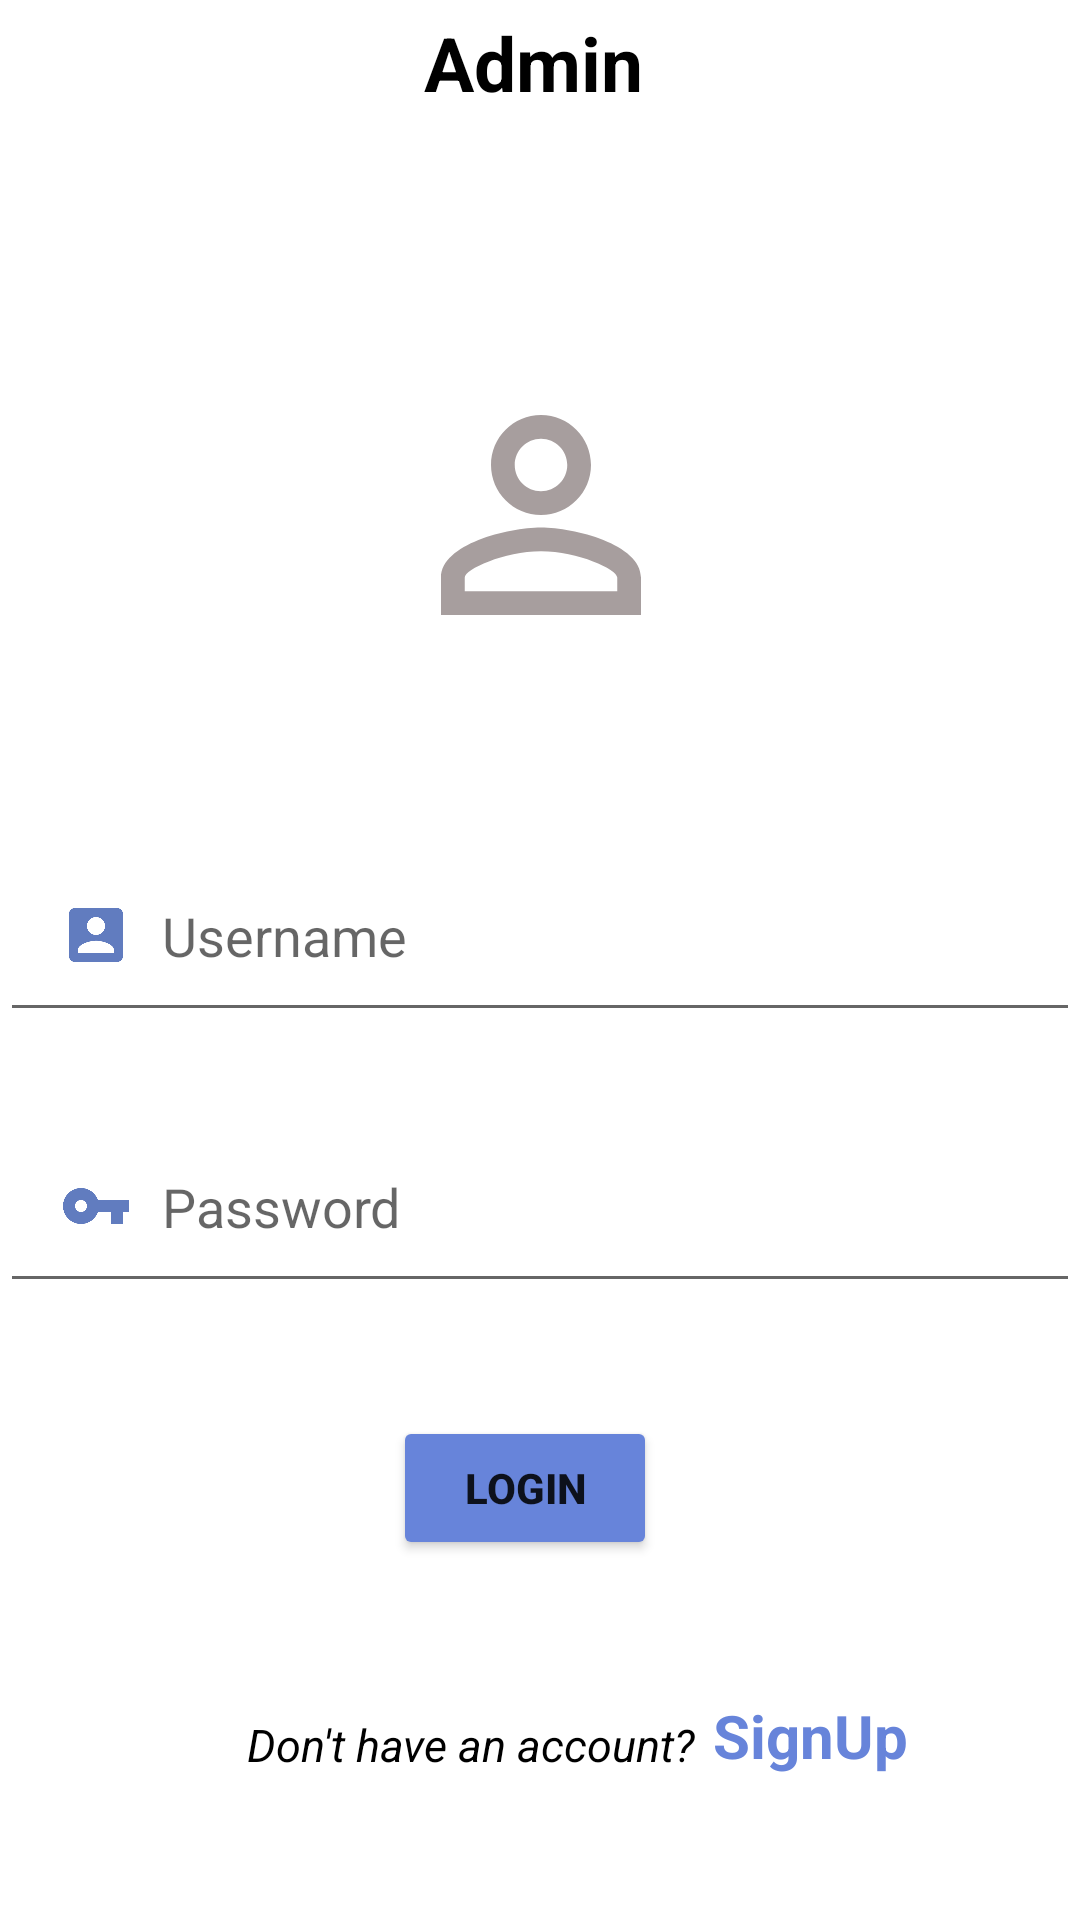

Point at icon controls on the screen. Image size 1080 x 1920, points as [x,y].
person: [541,515]
